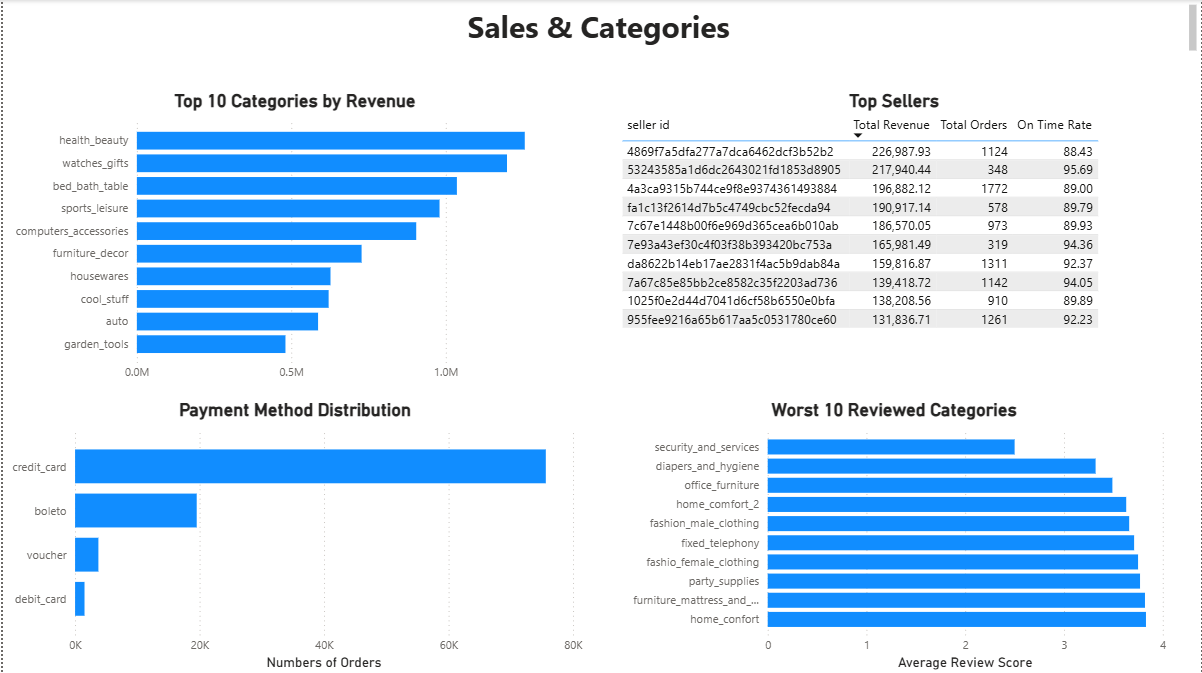

This screenshot's page, from the dashboard's own definition file:
{"tool":"powerbi","page":{"name":"Sales & Categories","canvas":[1280,720],"ordinal":1},"visuals":[{"type":"textbox","box":[0,0,1280,64],"z":0},{"type":"barChart","title":"Top 10 Categories by Revenue","fields":{"Category":["olist analysis_top_categories.product_category_name_english"],"Y":["Sum(olist analysis_top_categories.total_revenue)"]},"box":[0,96,624,320],"z":1000},{"type":"tableEx","title":"Top Sellers","fields":{"Values":["olist analysis_top_sellers.seller_id","Sum(olist analysis_top_sellers.total_revenue)","Sum(olist analysis_top_sellers.total_orders)","olist analysis_top_sellers.on_time_rate_pct"]},"box":[656,96,592,288],"z":2000},{"type":"clusteredBarChart","title":"Payment Method Distribution","fields":{"Category":["olist analysis_payment_distribution.payment_type"],"Y":["Sum(olist analysis_payment_distribution.number_of_orders)"]},"box":[0,426,624,294],"z":3000},{"type":"barChart","title":"Worst 10 Reviewed Categories","fields":{"Category":["olist analysis_average_review_by_category.product_category_name_english"],"Y":["Sum(olist analysis_average_review_by_category.average_review_score)"]},"box":[656,426,592,294],"z":4000}]}

Visuals, with their boxes in screenshot pixels (x1, y1, x2, y2), scaled from the page's 1280x720 canvas onto the 1202x673 screenshot:
textbox: select_region(0, 0, 1201, 60)
"Top 10 Categories by Revenue" barChart: select_region(0, 90, 586, 389)
"Top Sellers" tableEx: select_region(616, 90, 1172, 359)
"Payment Method Distribution" clusteredBarChart: select_region(0, 398, 586, 672)
"Worst 10 Reviewed Categories" barChart: select_region(616, 398, 1172, 672)
